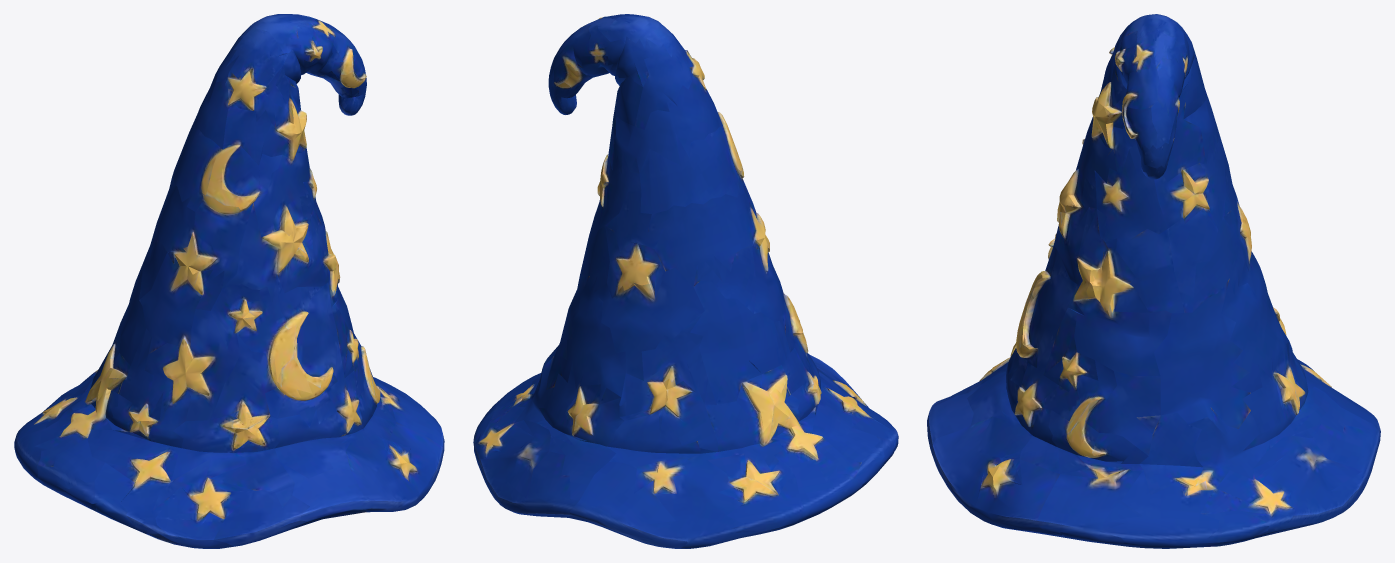
Rendered from wizard_hat.glb.
3 views of the same model, side by side, from view 1: azimuth 30°, elevation 25°; view 2: azimuth 150°, elevation 25°; view 3: azimuth 270°, elevation 25° (orthographic). The views are drawn at different scales.
Bounding box in the file's own units: 1.68 × 1.9 × 1.66.
1 material, 1 textured.
